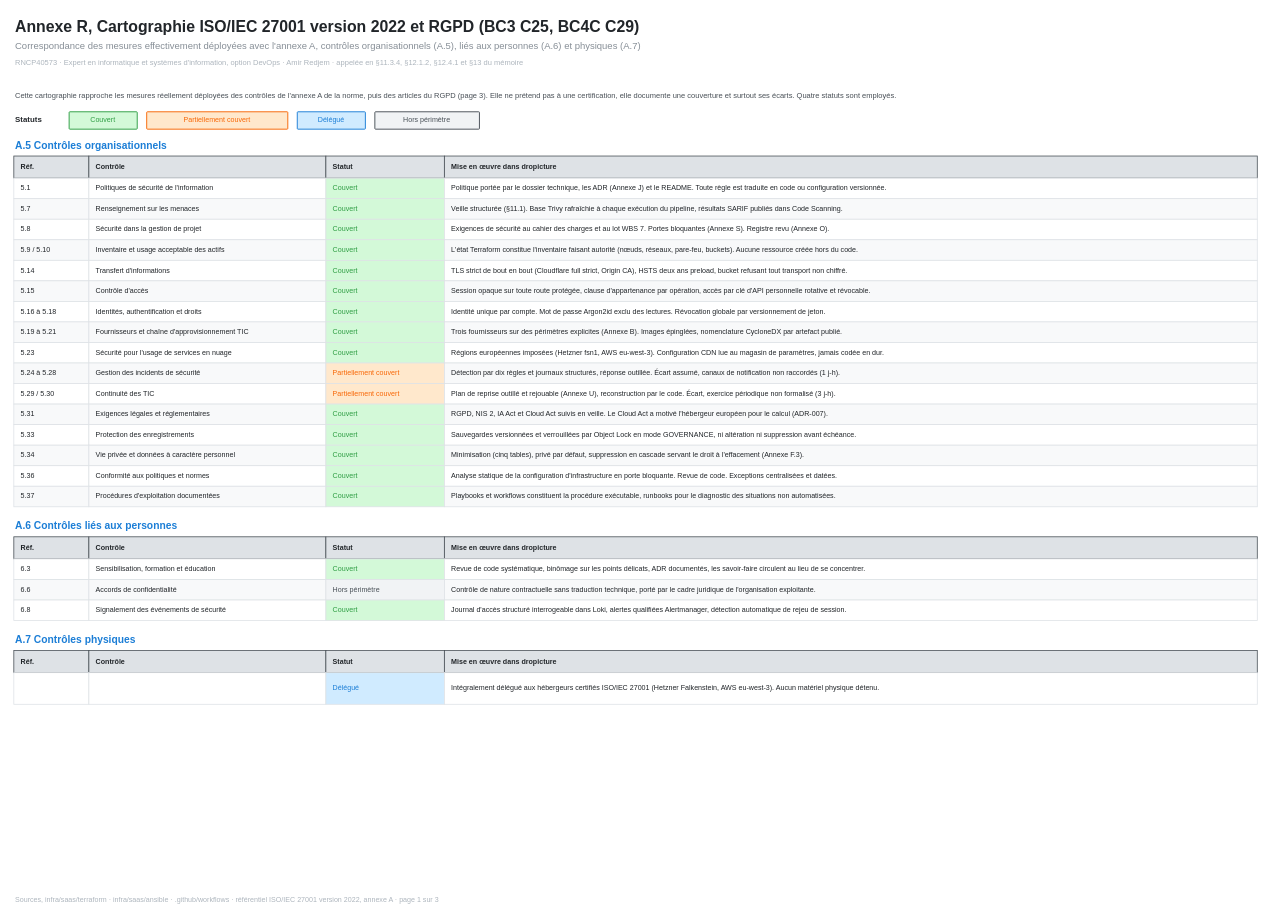
This 1271x920 diagram has some shape labels left out. Each missing label, with the centre of its shape:
"7.1 à 7.14" belongs at (51,688).
"Périmètres, accès physiques, équipements, câblage, maintenance, mise au rebut" belongs at (207,688).
